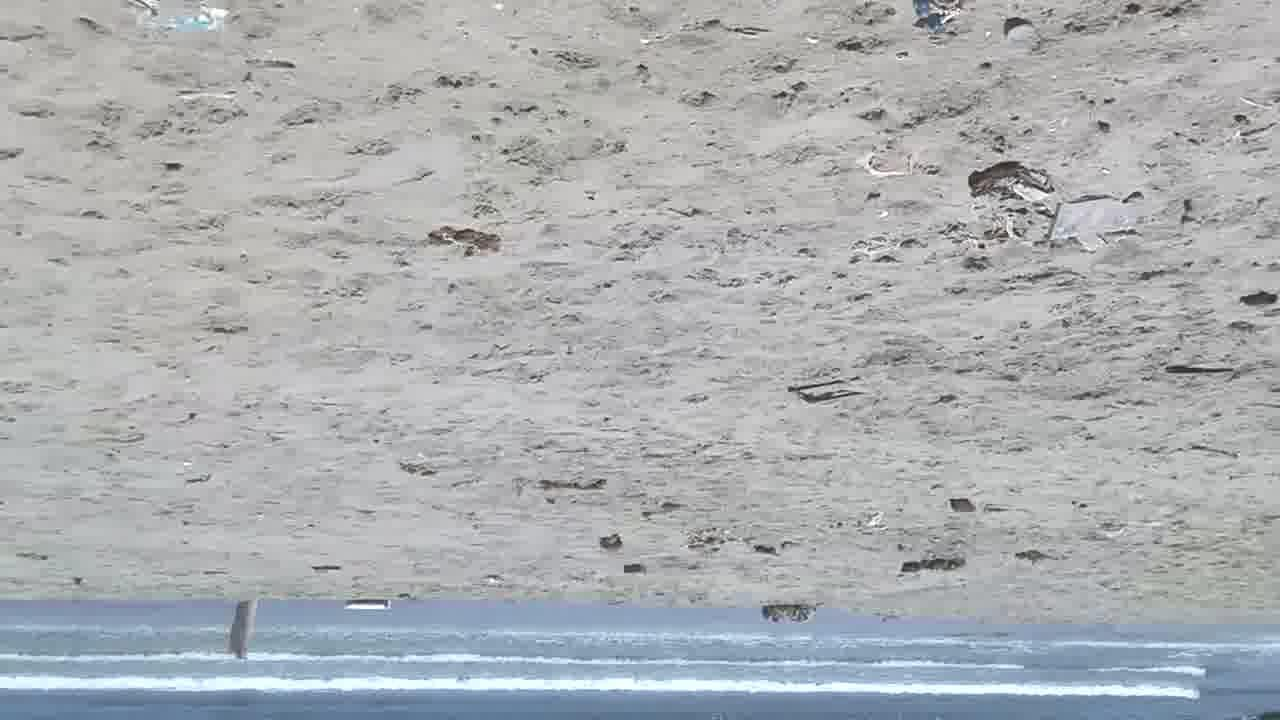obj: (965, 154, 1059, 245), (1051, 189, 1147, 251), (505, 474, 614, 506), (130, 1, 238, 32), (789, 371, 873, 409), (426, 224, 506, 262), (910, 1, 966, 47), (999, 12, 1051, 58), (896, 550, 966, 584), (226, 600, 264, 660), (854, 140, 904, 178), (762, 600, 827, 623), (1162, 364, 1240, 381), (172, 85, 242, 102), (1015, 547, 1055, 568), (598, 528, 624, 552), (344, 598, 395, 610), (622, 562, 650, 580)
sand/background: (0, 595, 1280, 719)
